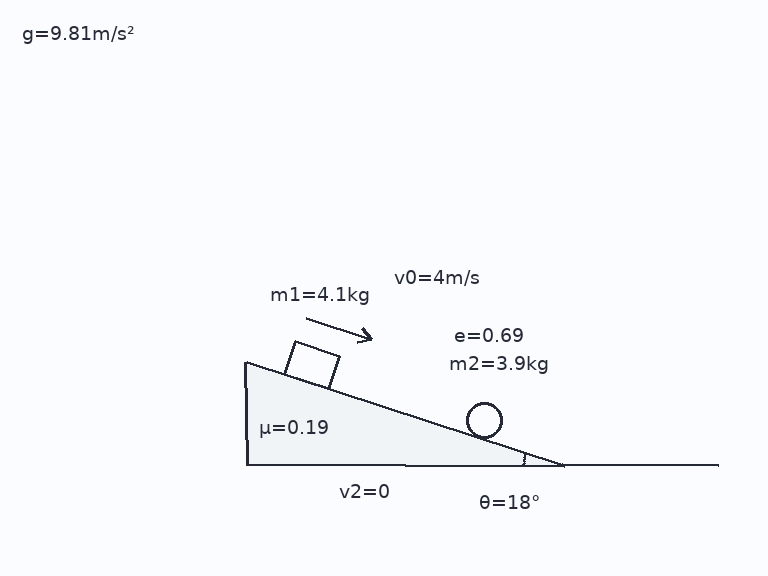ball: (464, 400, 504, 440)
block: (282, 340, 341, 390)
ramp: (244, 360, 566, 467)
